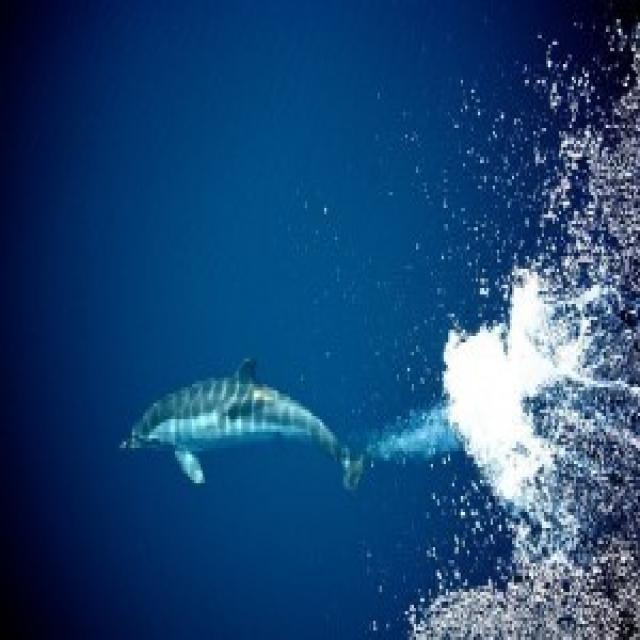Dolphin: (116, 348, 354, 504), (367, 403, 457, 476)
